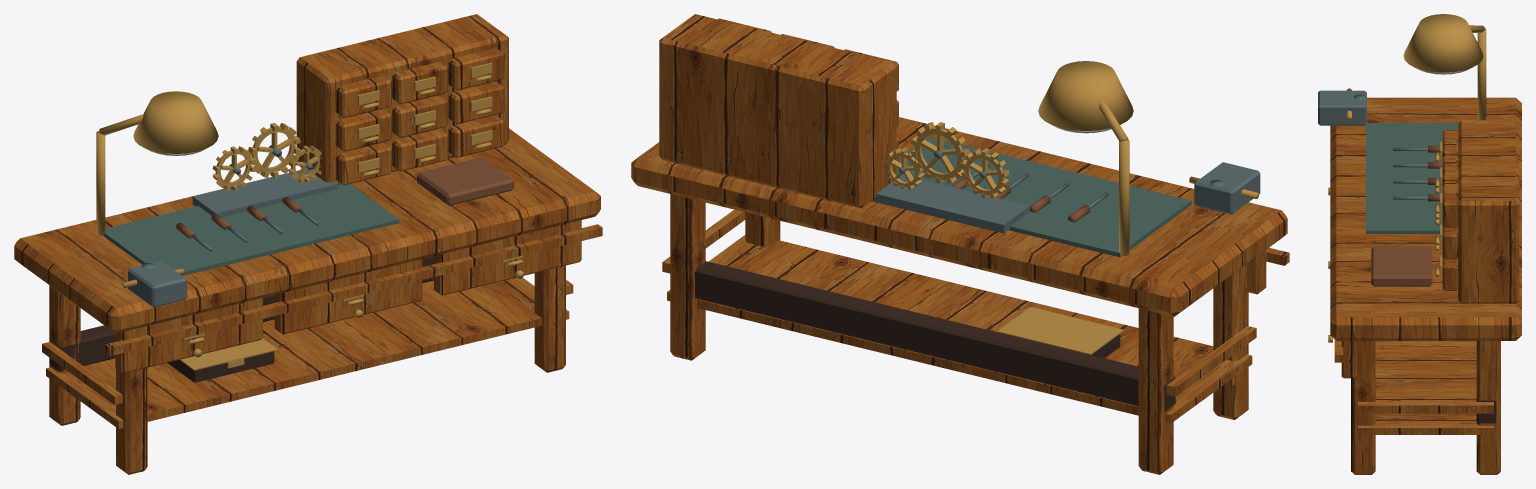
3 renders of one model, left to right at view 1: azimuth 30°, elevation 25°; view 2: azimuth 150°, elevation 25°; view 3: azimuth 270°, elevation 25°, orthographic. The views are drawn at different scales.
Visible parts, largest first — view 1: clockshop_walnut, clockshop_walnut.001, clockshop_brass, clockshop_felt, clockshop_steel, clockshop_leather, clockshop_darkwood, clockshop_brass.001, clockshop_darkwood.001; view 2: clockshop_walnut, clockshop_walnut.001, clockshop_darkwood, clockshop_felt, clockshop_brass, clockshop_steel, clockshop_brass.001; view 3: clockshop_walnut, clockshop_walnut.001, clockshop_felt, clockshop_brass, clockshop_leather, clockshop_steel, clockshop_darkwood.
Part boxes in pixels (x1,y1,x2,y2): clockshop_walnut: (14, 14, 600, 474); clockshop_walnut.001: (42, 224, 602, 428); clockshop_brass: (96, 62, 523, 344); clockshop_felt: (103, 184, 399, 275); clockshop_steel: (128, 145, 338, 307); clockshop_leather: (175, 157, 514, 238); clockshop_darkwood: (49, 256, 433, 371); clockshop_brass.001: (179, 269, 523, 370); clockshop_darkwood.001: (168, 351, 274, 382); clockshop_walnut: (631, 14, 1287, 474); clockshop_walnut.001: (662, 209, 1289, 423); clockshop_darkwood: (695, 261, 1175, 411); clockshop_felt: (896, 136, 1191, 257); clockshop_brass: (887, 61, 1258, 255); clockshop_steel: (871, 145, 1260, 233); clockshop_brass.001: (997, 307, 1123, 354); clockshop_walnut: (1330, 97, 1521, 474); clockshop_walnut.001: (1334, 340, 1493, 434); clockshop_felt: (1366, 123, 1458, 233); clockshop_brass: (1346, 14, 1486, 276); clockshop_leather: (1371, 145, 1442, 286); clockshop_steel: (1318, 90, 1427, 199); clockshop_darkwood: (1476, 398, 1496, 423).
Bounding box in the file's own units: 3.06 × 1.87 × 1.17.
Materials: 7 (1 with a texture image).
